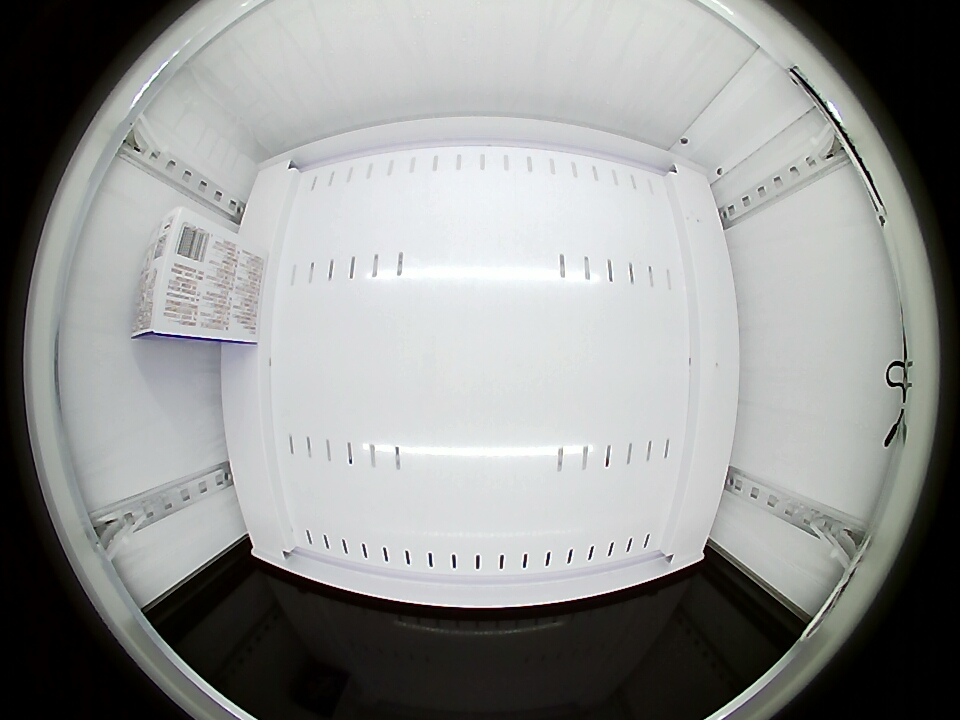meiniye: (132, 207, 222, 340)
